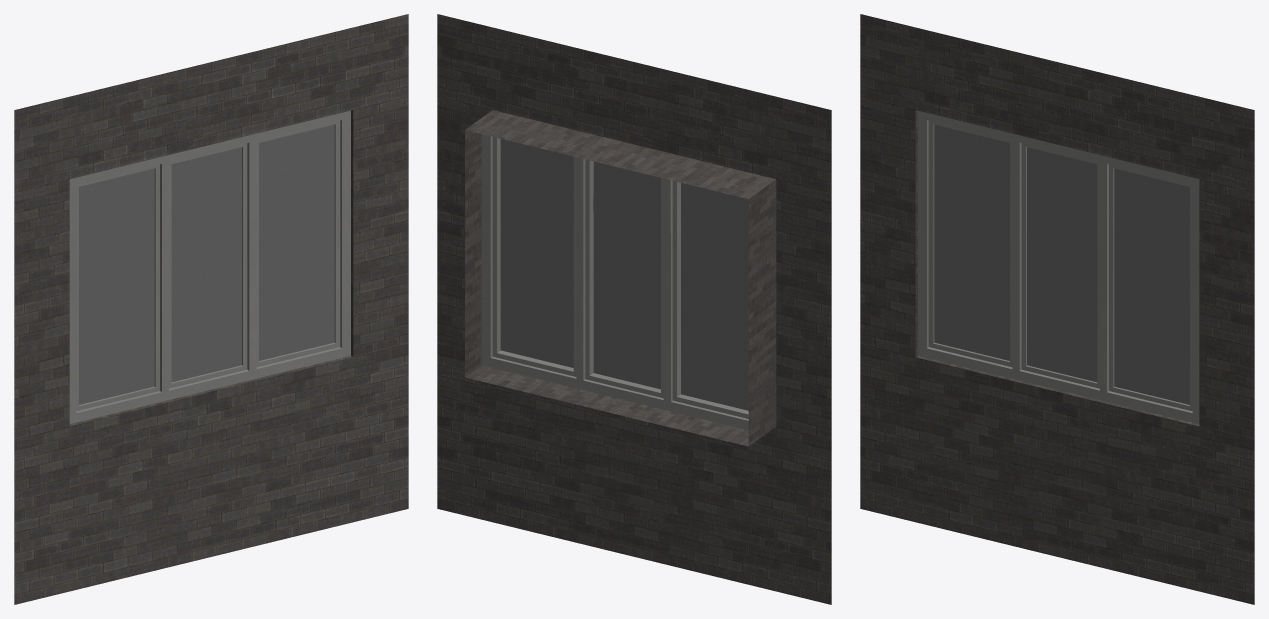
Rendered from Sm_Window02b.fbx.
3 views of the same model, side by side, from view 1: azimuth 30°, elevation 25°; view 2: azimuth 150°, elevation 25°; view 3: azimuth 330°, elevation 25° (orthographic).
Parts seen in each view (by area): view 1: Sm_Window02b; view 2: Sm_Window02b; view 3: Sm_Window02b.
Boxes of the visible parts, bbox=[...] form: Sm_Window02b: bbox=[14, 14, 408, 604]; Sm_Window02b: bbox=[437, 14, 831, 604]; Sm_Window02b: bbox=[860, 14, 1254, 604].
Bounding box in the file's own units: 250 × 30.37 × 300.
3 materials, 3 textured.
